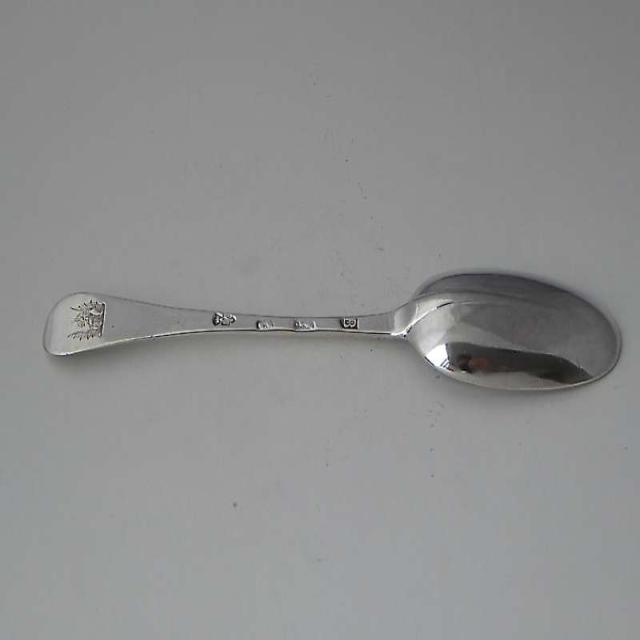spoon: (39, 263, 626, 402)
